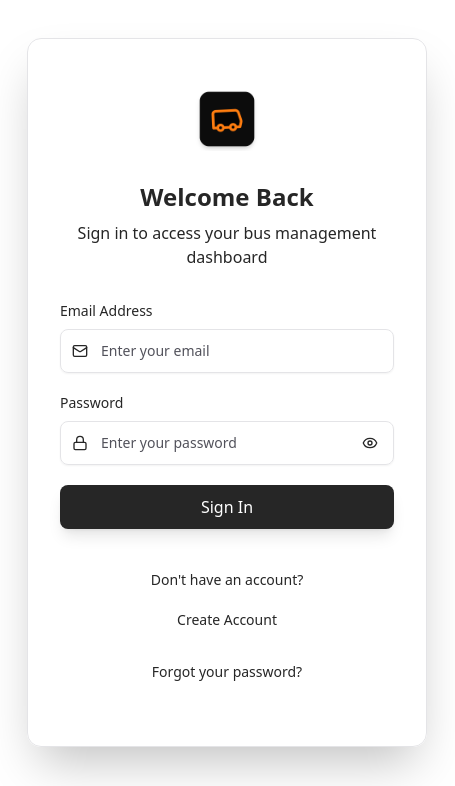
it: AuthForm › shows error message when signup fails
Click the button "Create Account": [227, 620] box [161, 602, 293, 638]
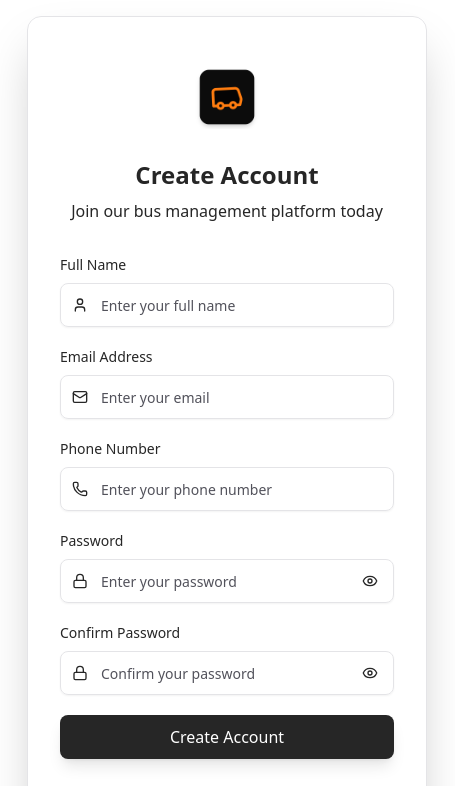
In the field labelled "Full Name": [227, 305] box [60, 283, 394, 327], type "John Doe"
In the field labelled "Email Address": [227, 397] box [60, 375, 394, 419], type "existing@example.com"
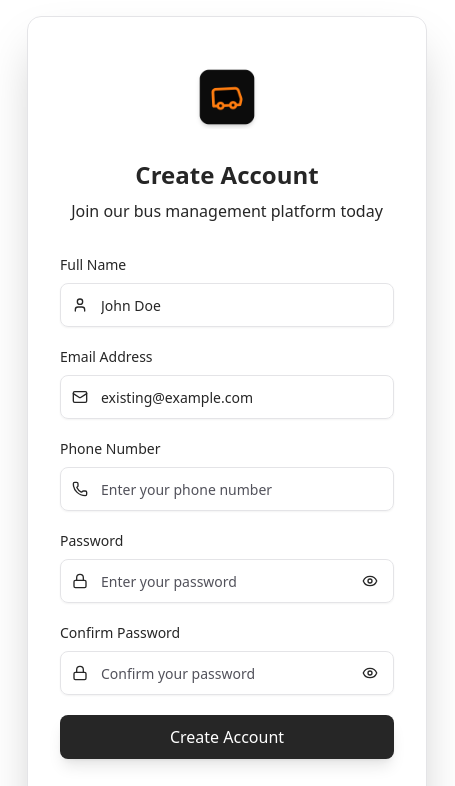
In the field labelled "Phone Number": [227, 489] box [60, 467, 394, 511], type "+1234567890"
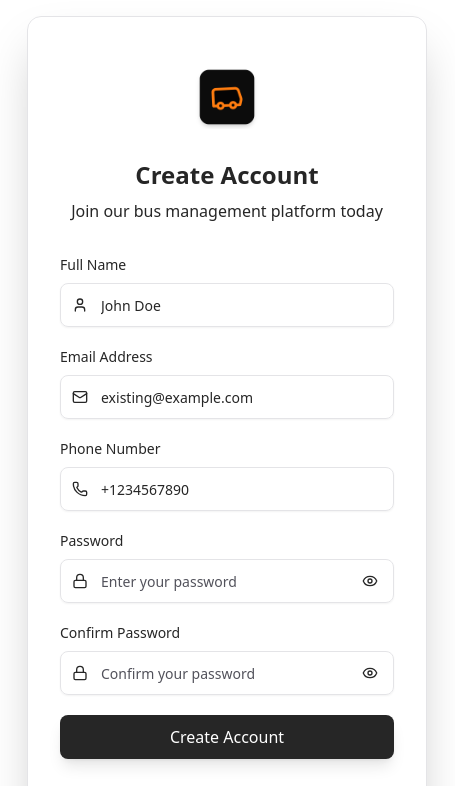
In the password field labelled "Password": [227, 581] box [60, 559, 394, 603], type "password123"
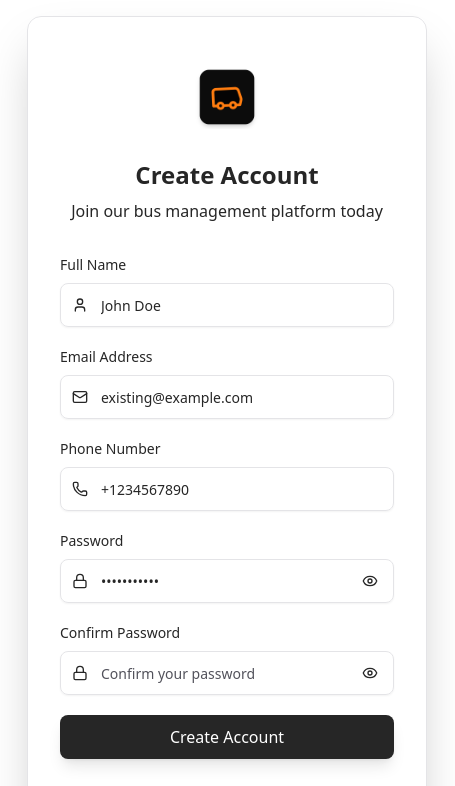
In the password field labelled "Confirm Password": [227, 673] box [60, 651, 394, 695], type "password123"
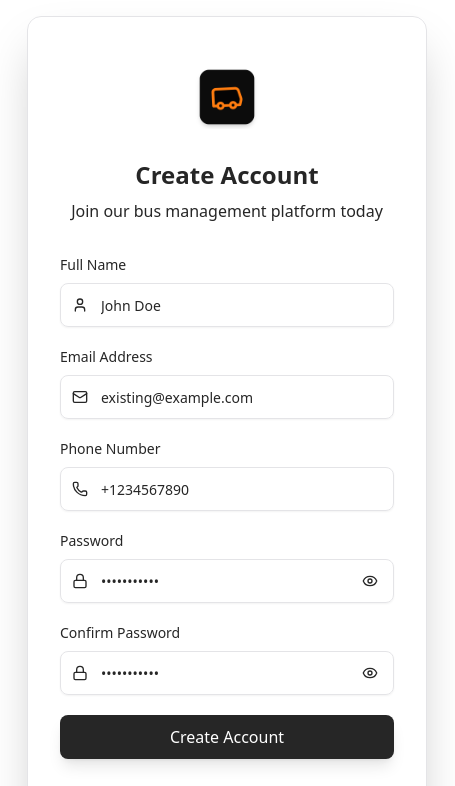
Click the button "Create Account": [227, 737] box [60, 715, 394, 759]
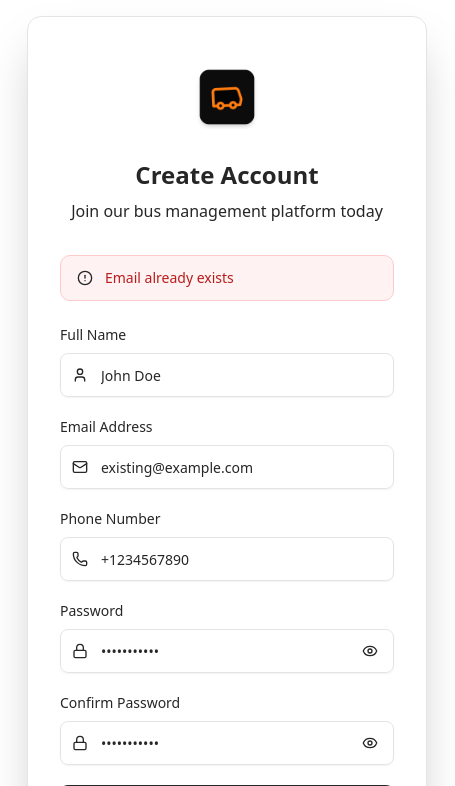
Expected: the text "Email already exists" is shown, [105, 268, 234, 287]
